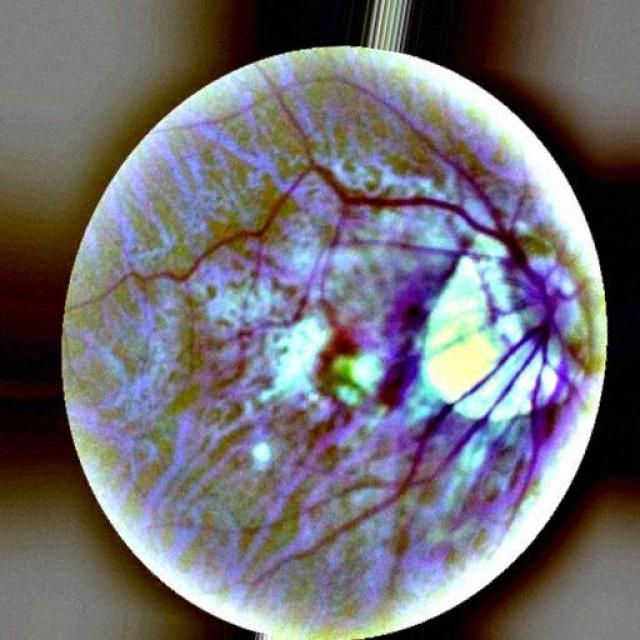Macula: (320, 327, 426, 404)
Nerves: (409, 335, 552, 522), (409, 258, 546, 449), (312, 152, 511, 256)
Optic Disk: (437, 236, 580, 383)
